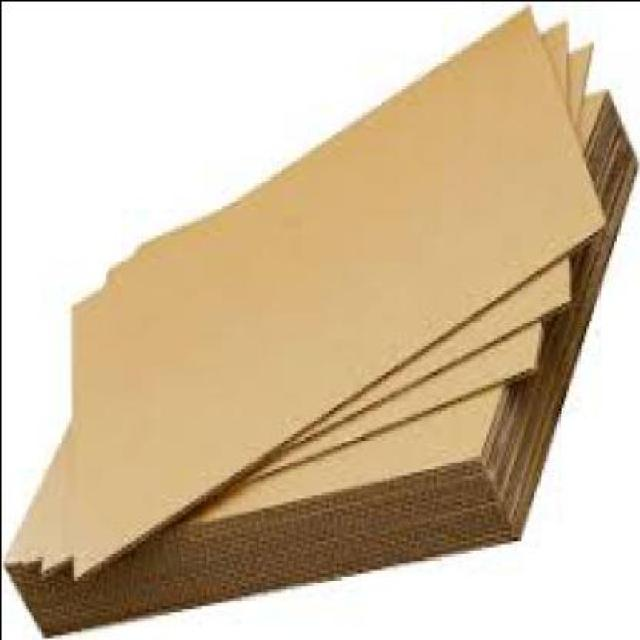CARDBOARD: (1, 83, 638, 639), (66, 2, 606, 576), (32, 39, 592, 572), (100, 17, 568, 441)
